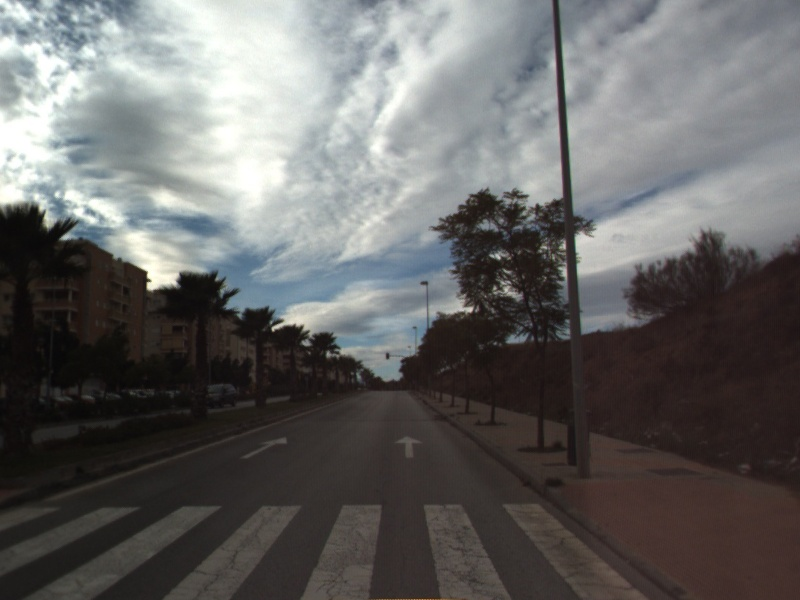STRAIGHT: (238, 434, 289, 461), (393, 434, 425, 460)
